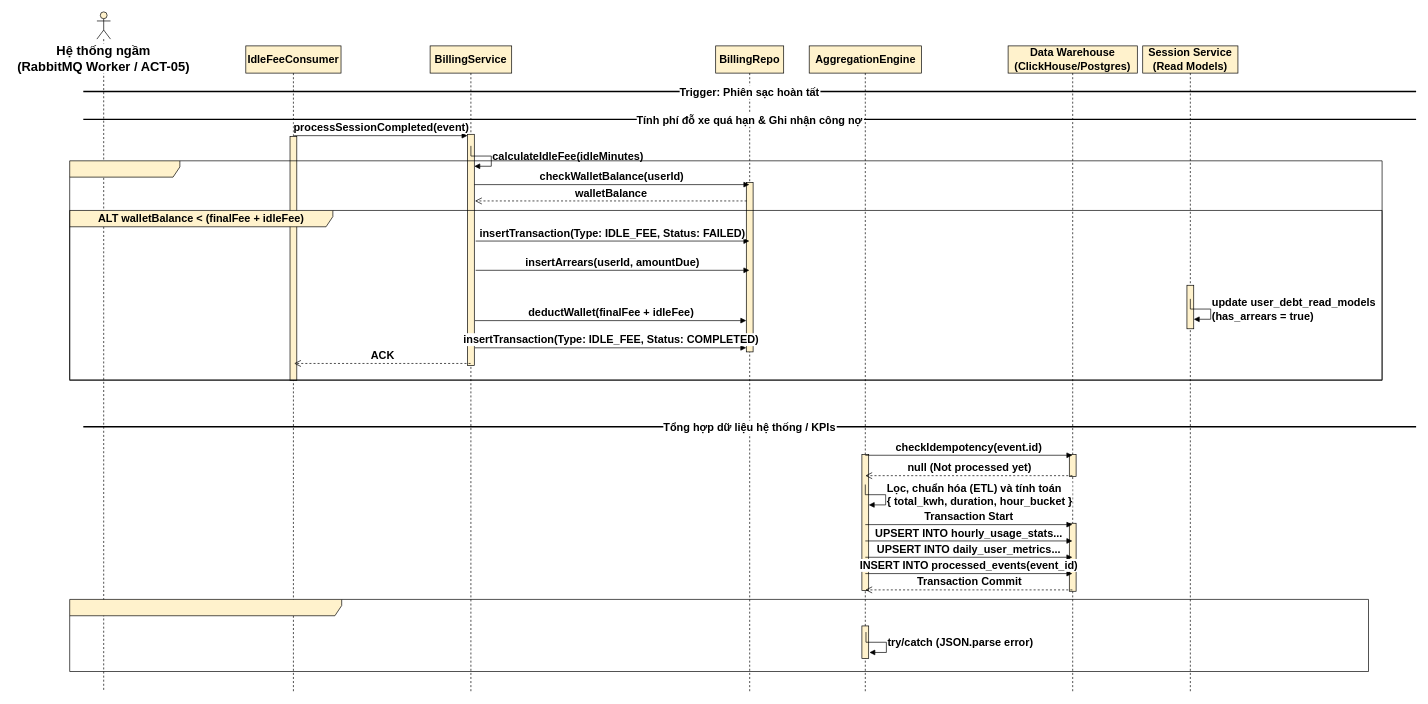
Some shapes in this 1428 by 704 pixel diagram are drawn without their labels. The shapes that lost their labels are listed below. From the top down, each one's centre as x and y in pixels, then its label:
the point at 725,270: ALT idleFee > 0
the point at 718,635: OPT Lỗi định dạng JSON / Xử lý thất bại (DLQ)
